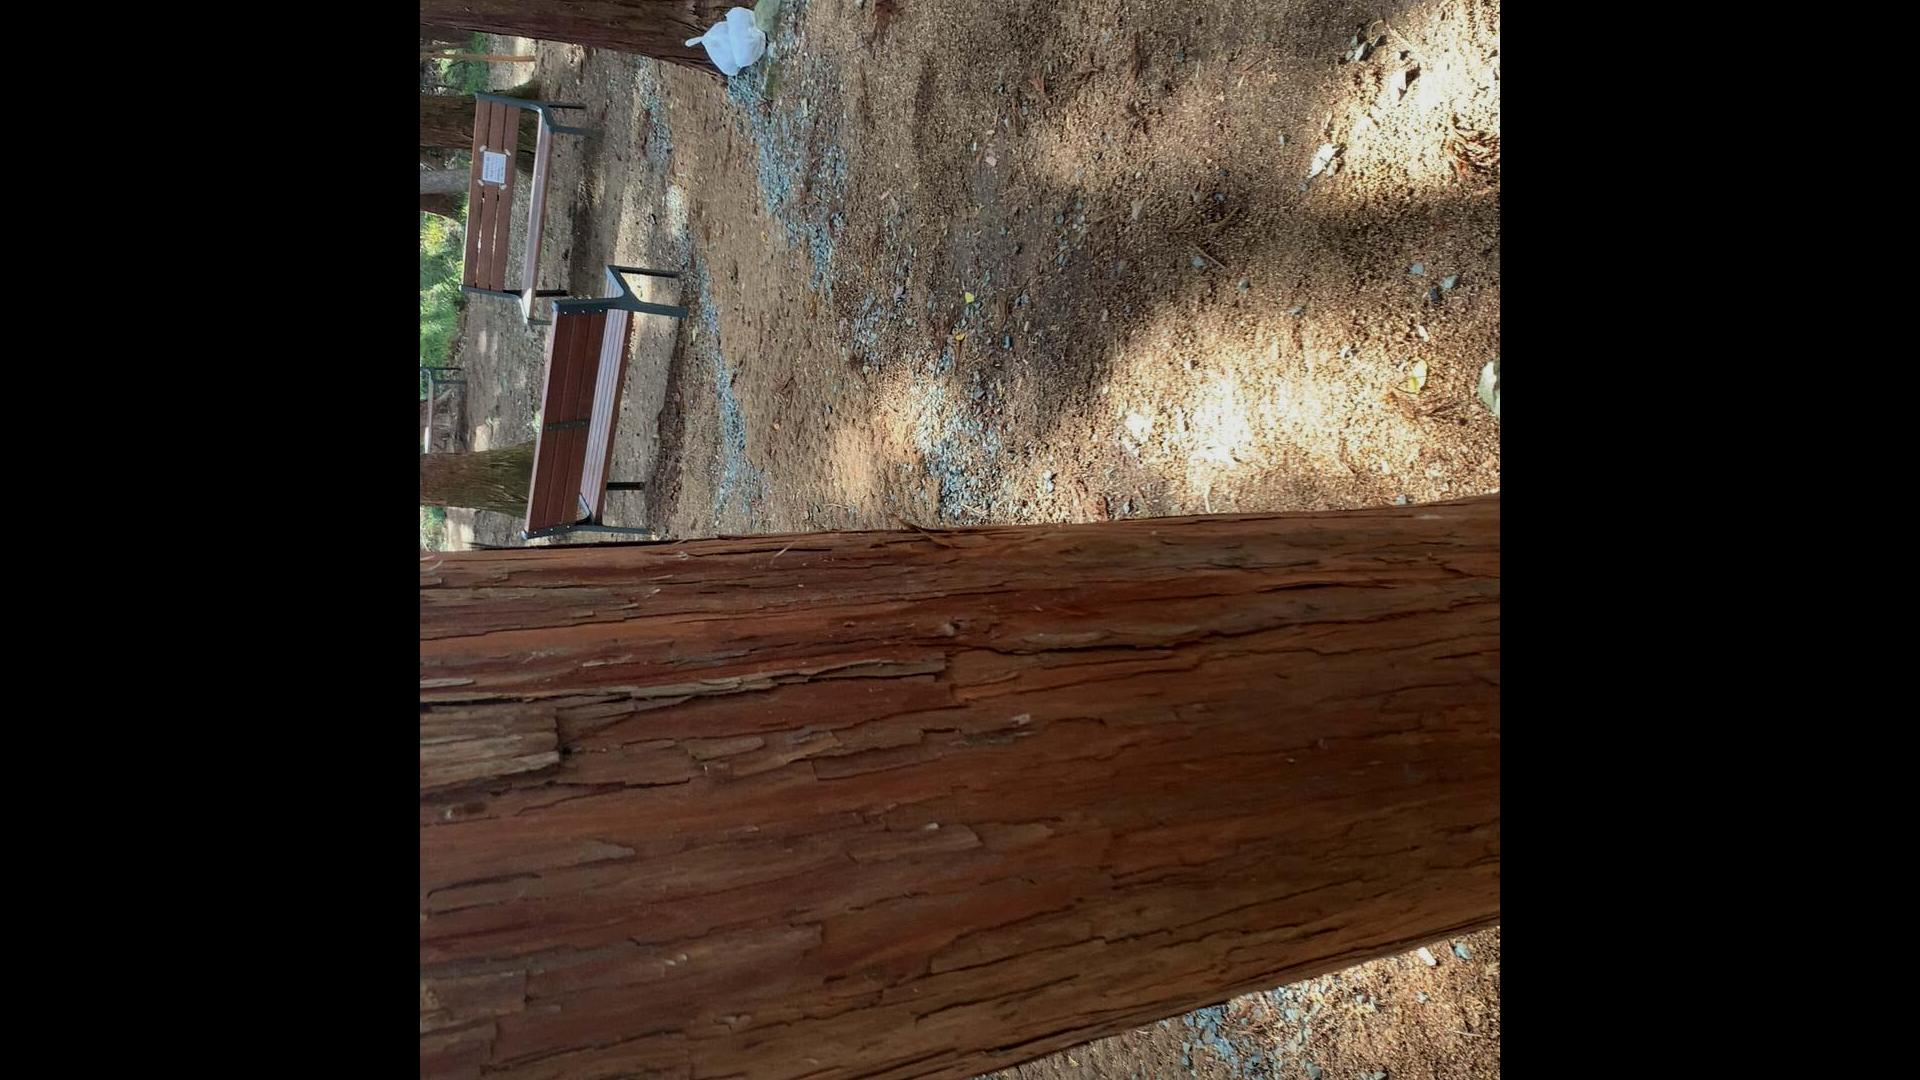white_bag: (680, 16, 742, 78), (724, 3, 766, 70)
